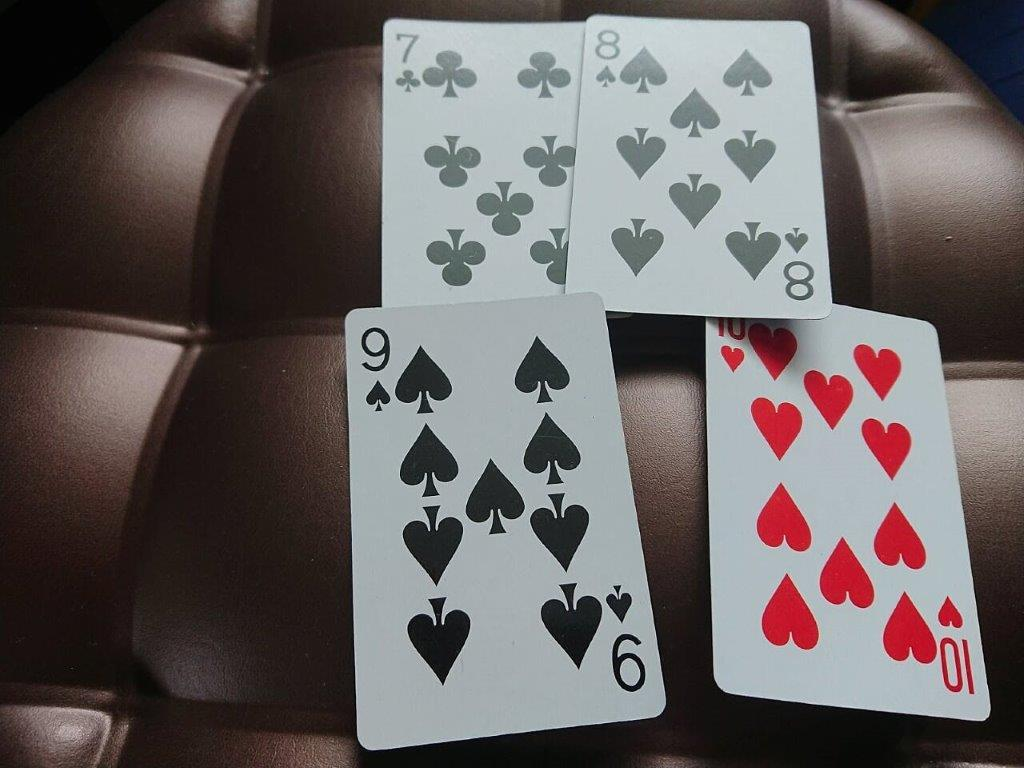10H: (713, 315, 749, 377)
7C: (389, 26, 424, 97)
8S: (591, 25, 623, 92)
9S: (355, 323, 394, 414)
